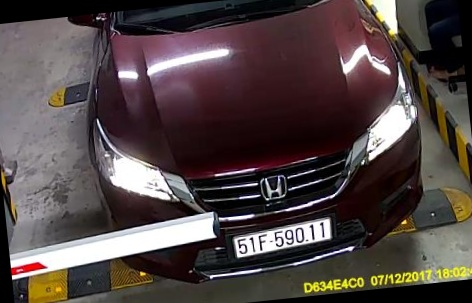plate: (222, 217, 342, 262)
